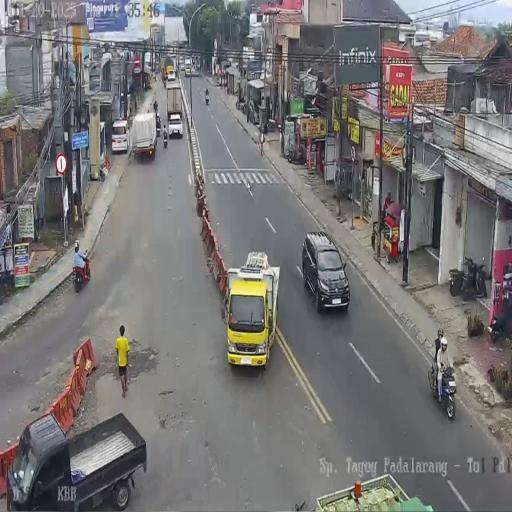3: (6, 410, 148, 512), (229, 250, 286, 366), (316, 468, 432, 509), (131, 112, 158, 161), (161, 56, 174, 82), (144, 51, 154, 77), (184, 58, 193, 76)
car: (302, 232, 349, 315), (112, 118, 130, 154), (168, 112, 183, 138), (192, 66, 201, 77), (180, 62, 185, 71)
truck: (450, 254, 488, 300), (429, 358, 456, 418), (489, 308, 505, 342), (286, 144, 304, 165), (163, 131, 168, 148), (156, 119, 160, 137), (205, 93, 209, 105), (154, 73, 156, 83)
